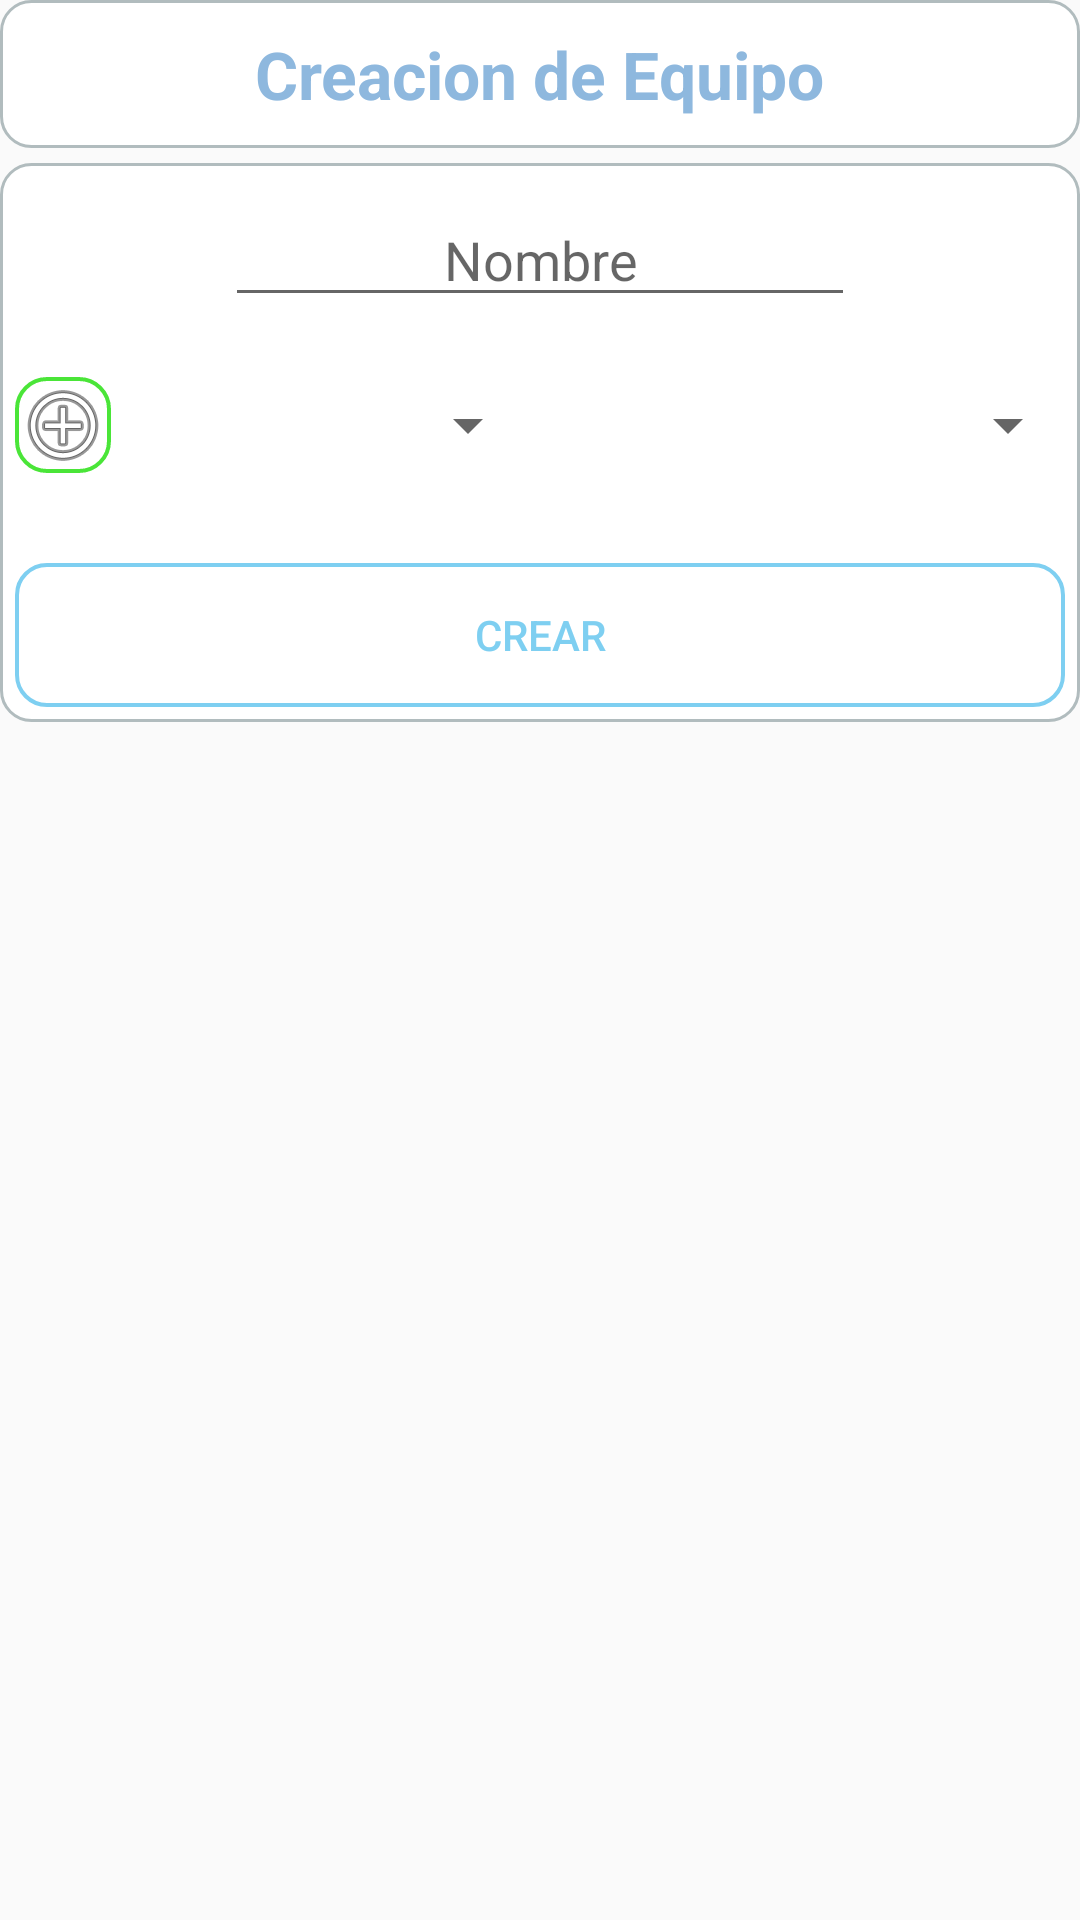

Named icons in this screenshot (1080px x 1920px) and their bounding boxes, (x1, y1, x2, y2):
add: (15, 377, 111, 473)
